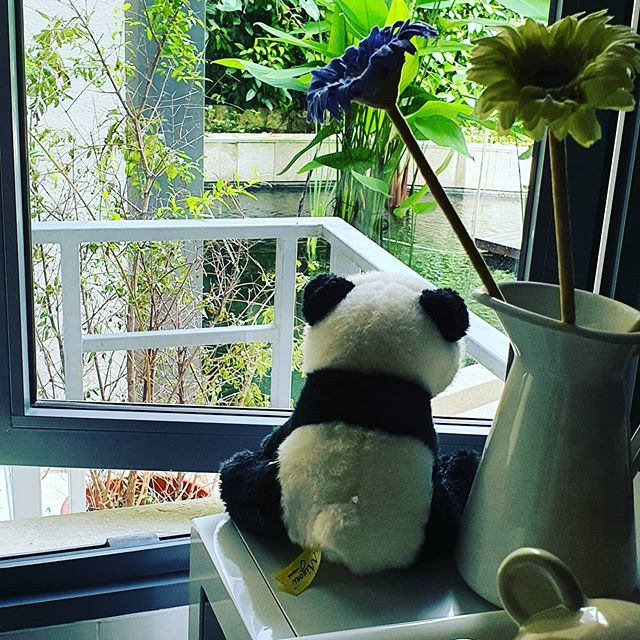flowers: (305, 1, 640, 193)
stuffed animal: (219, 257, 482, 578)
tree: (26, 1, 264, 393)
